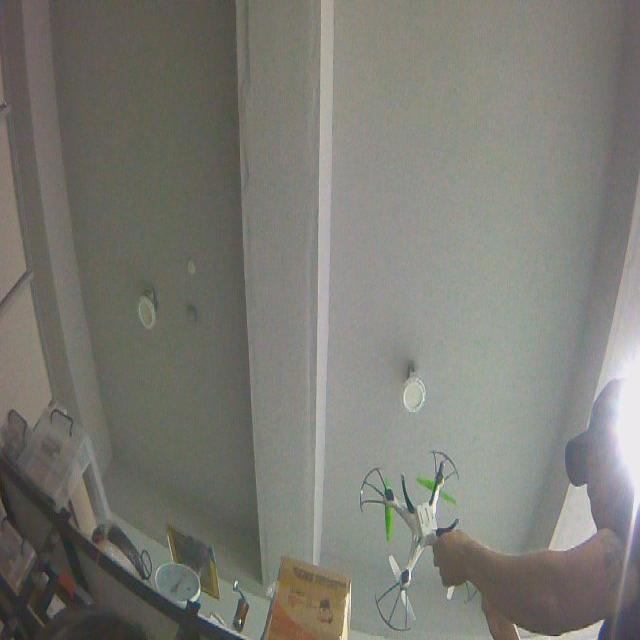drone: (358, 446, 484, 634)
